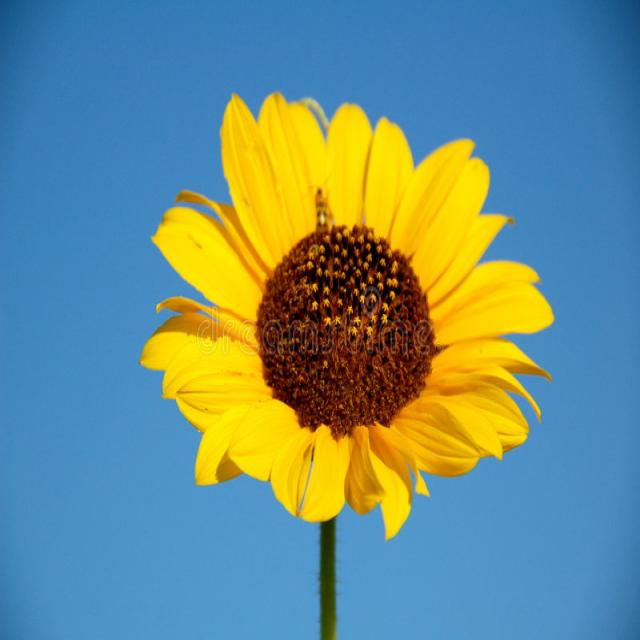sunflower: (138, 42, 562, 552)
